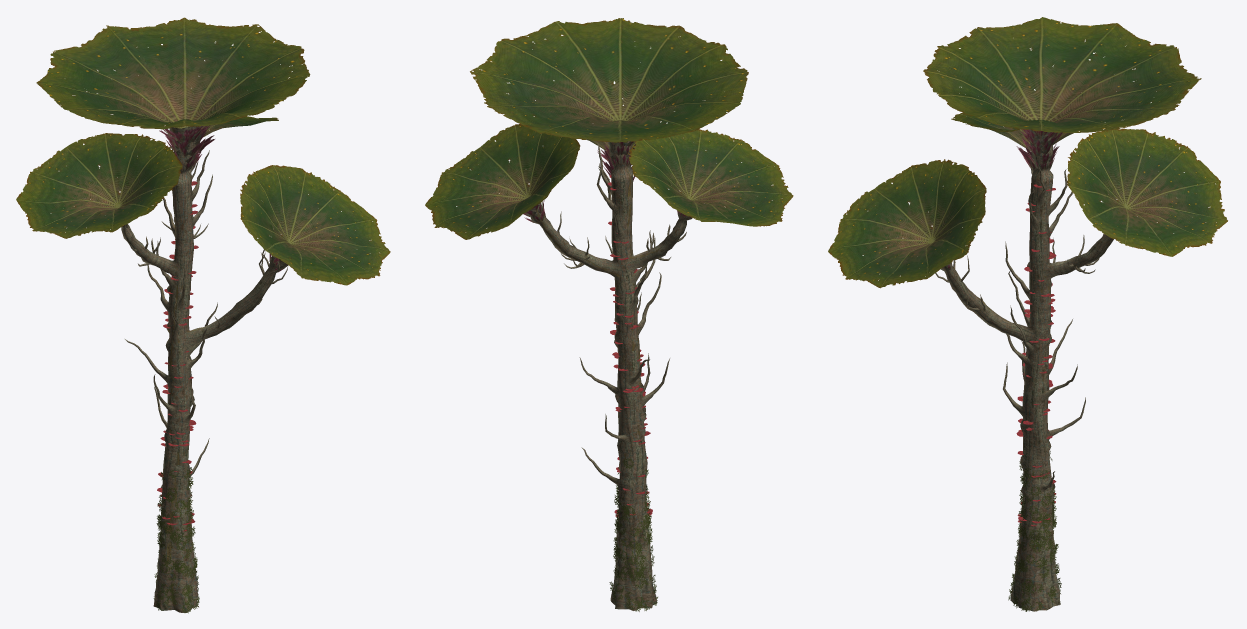
The model's file is Tree - Alien Tree 03 1-C3_T5XGE.glb.
3 renders of one model, left to right at view 1: azimuth 30°, elevation 25°; view 2: azimuth 150°, elevation 25°; view 3: azimuth 270°, elevation 25°, orthographic. The views are drawn at different scales.
Visible parts, largest first — view 1: Tree_03_1_L0(Clone); view 2: Tree_03_1_L0(Clone); view 3: Tree_03_1_L0(Clone).
Part boxes in pixels (x1=…): Tree_03_1_L0(Clone): x1=16, y1=17, x2=390, y2=613; Tree_03_1_L0(Clone): x1=425, y1=18, x2=793, y2=611; Tree_03_1_L0(Clone): x1=828, y1=17, x2=1227, y2=611.
Size of the model in its own units: 6.53 by 11.08 by 7.54.
2 materials, 2 textured.
